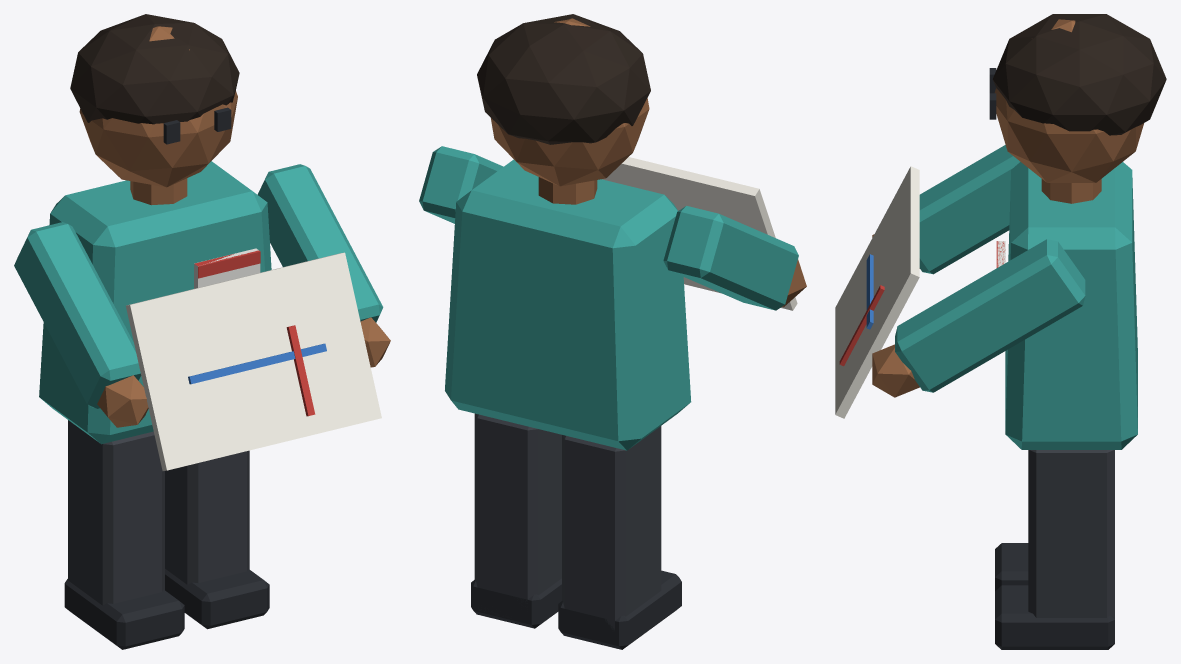
File: newhire.glb
3 renders of one model, left to right at view 1: azimuth 30°, elevation 25°; view 2: azimuth 150°, elevation 25°; view 3: azimuth 270°, elevation 25°, orthographic. The views are drawn at different scales.
Visible parts, largest first — view 1: Body, Props, LegR, LegL, ArmR, ArmL; view 2: Body, LegR, LegL, ArmR, Props, ArmL; view 3: Body, LegL, ArmL, Props, ArmR, LegR.
Part boxes in pixels (<box>): Body: <box>39,14,271,444</box>; Props: <box>126,248,381,470</box>; LegR: <box>64,420,184,649</box>; LegL: <box>165,450,269,629</box>; ArmR: <box>14,222,148,427</box>; ArmL: <box>257,164,390,367</box>; Body: <box>445,14,691,450</box>; LegR: <box>558,426,681,649</box>; LegL: <box>471,413,561,628</box>; ArmR: <box>663,206,806,310</box>; Props: <box>602,157,797,310</box>; ArmL: <box>419,146,503,223</box>; Body: <box>989,14,1166,449</box>; LegL: <box>995,450,1114,649</box>; ArmL: <box>872,239,1085,397</box>; Props: <box>835,166,1005,418</box>; ArmR: <box>872,145,1020,274</box>; LegR: <box>995,543,1028,590</box>.
Size of the model in its own units: 0.5005 by 0.9813 by 0.4965.
